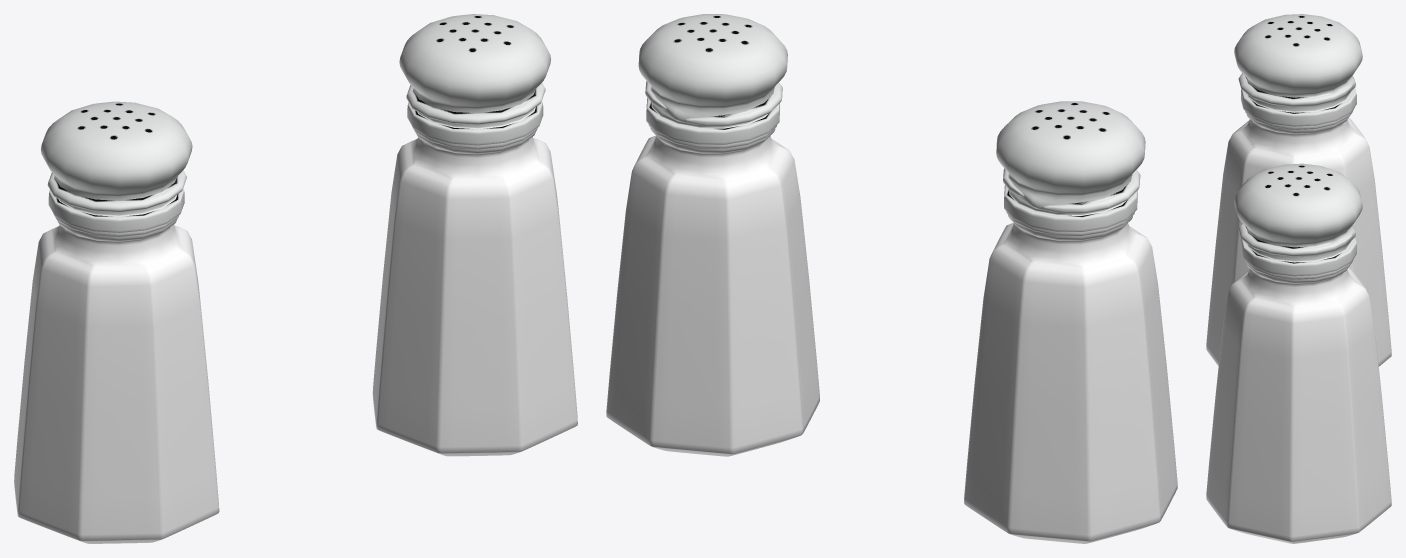
The model's file is saleros.obj.
3 renders of one model, left to right at view 1: azimuth 30°, elevation 25°; view 2: azimuth 150°, elevation 25°; view 3: azimuth 270°, elevation 25°, orthographic. The views are drawn at different scales.
Visible parts, largest first — view 1: Shaker_Glass, Shaker_Glass.001, Lid, Lid.001; view 2: Shaker_Glass, Shaker_Glass.001, Lid, Lid.001; view 3: Shaker_Glass, Shaker_Glass.001, Lid, Lid.001.
Boxes of the visible parts, x1=… form: Shaker_Glass: x1=372, y1=126, x2=577, y2=456; Shaker_Glass.001: x1=14, y1=213, x2=219, y2=543; Lid: x1=40, y1=101, x2=192, y2=232; Lid.001: x1=399, y1=14, x2=550, y2=145; Shaker_Glass: x1=606, y1=124, x2=819, y2=456; Shaker_Glass.001: x1=964, y1=211, x2=1177, y2=543; Lid: x1=996, y1=101, x2=1145, y2=231; Lid.001: x1=638, y1=14, x2=787, y2=144; Shaker_Glass: x1=1206, y1=257, x2=1391, y2=543; Shaker_Glass.001: x1=1206, y1=107, x2=1391, y2=366; Lid: x1=1234, y1=14, x2=1362, y2=126; Lid.001: x1=1234, y1=163, x2=1362, y2=276.
Bounding box in the file's own units: 0.14 × 0.0962 × 0.0481.
